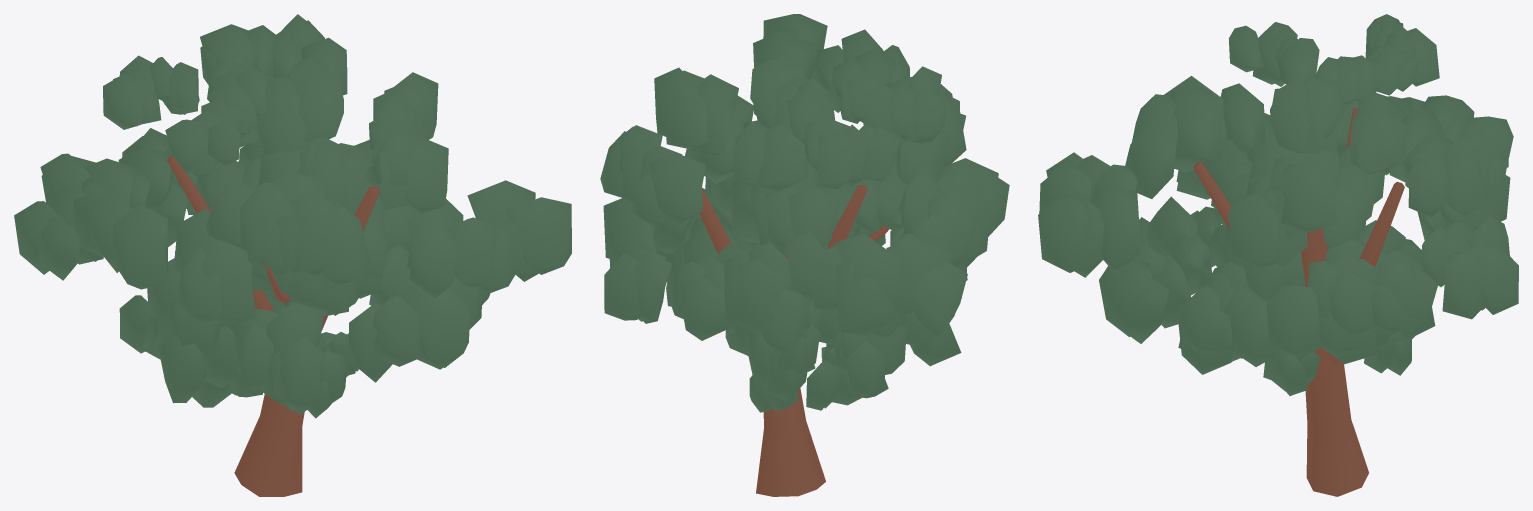
The model's file is Blender_RMJuniper_2.glb.
The picture shows the model from 3 angles, left to right: view 1: azimuth 30°, elevation 25°; view 2: azimuth 150°, elevation 25°; view 3: azimuth 270°, elevation 25°; orthographic projection. The views are drawn at different scales.
Visible parts, largest first — view 1: Blender_RMJuniper_2; view 2: Blender_RMJuniper_2; view 3: Blender_RMJuniper_2.
Part boxes in pixels (box(x1,y1,x2,y2)): Blender_RMJuniper_2: box(14, 14, 571, 496); Blender_RMJuniper_2: box(600, 14, 1009, 496); Blender_RMJuniper_2: box(1038, 14, 1518, 496).
Bounding box in the file's own units: 6.05 × 6.5 × 6.8.
